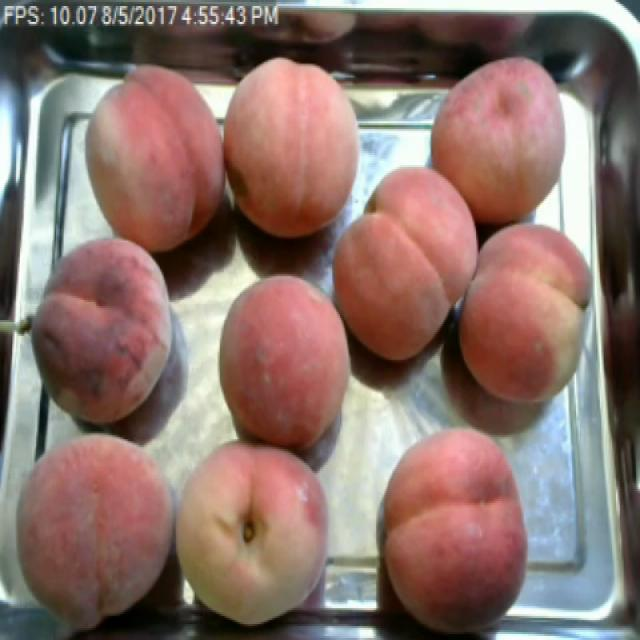Fruit: (2, 415, 182, 640), (369, 419, 540, 638), (324, 151, 491, 374), (21, 225, 191, 441), (172, 425, 345, 636), (441, 209, 611, 415), (203, 266, 365, 465), (219, 46, 376, 248), (421, 42, 583, 235), (76, 56, 229, 260)
